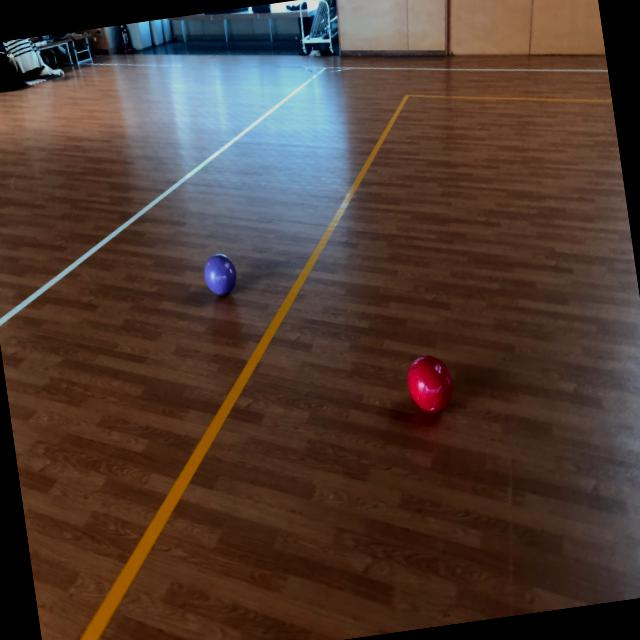purple_ball: (204, 254, 238, 296)
red_ball: (404, 352, 458, 416)
